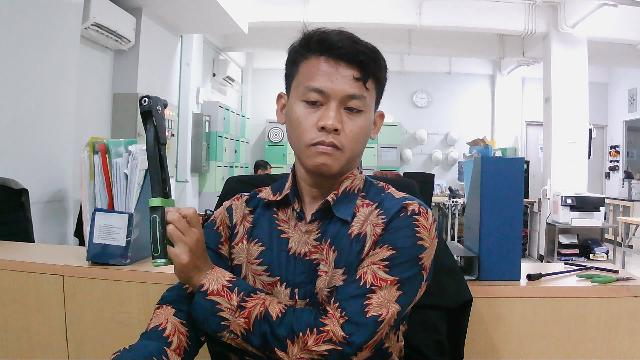tang_rivet: (130, 81, 213, 276)
